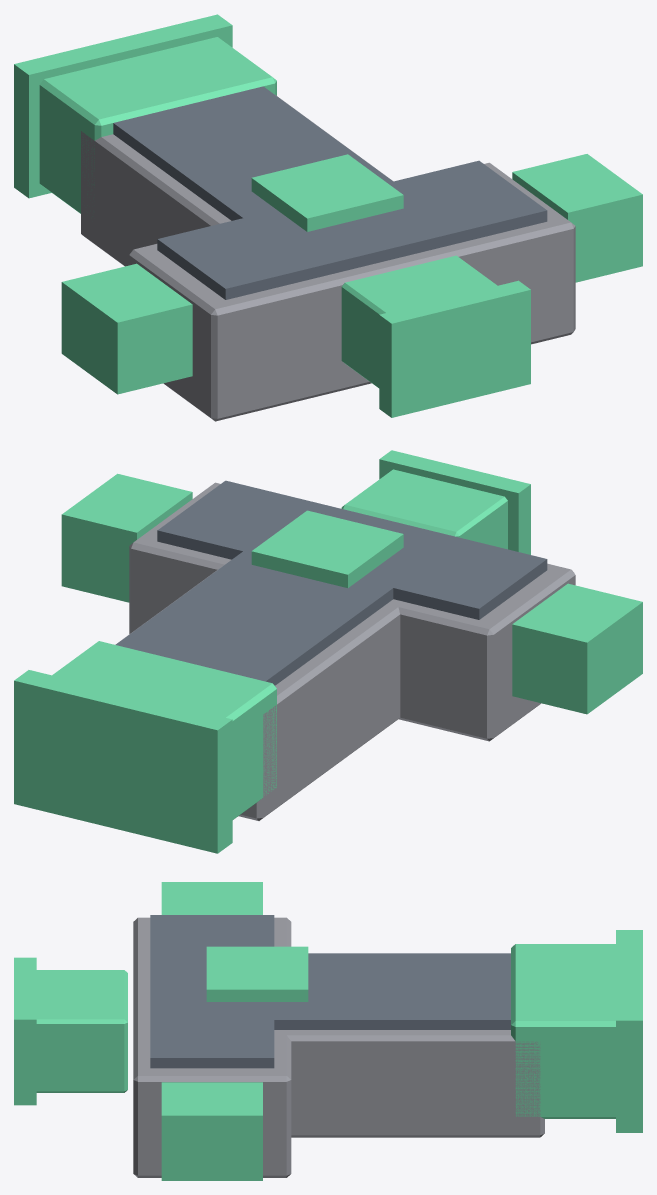
Rendered from merger_01.glb.
3 views of the same model, one above another, from view 1: azimuth 30°, elevation 25°; view 2: azimuth 150°, elevation 25°; view 3: azimuth 270°, elevation 25° (orthographic). The views are drawn at different scales.
Parts seen in each view (by area): view 1: merger_01; view 2: merger_01; view 3: merger_01.
Boxes of the visible parts, x1,y1,x2,y2 form: merger_01: (14, 14, 642, 421); merger_01: (14, 450, 642, 853); merger_01: (14, 882, 642, 1180).
Size of the model in its own units: 2.45 by 0.64 by 2.79.
